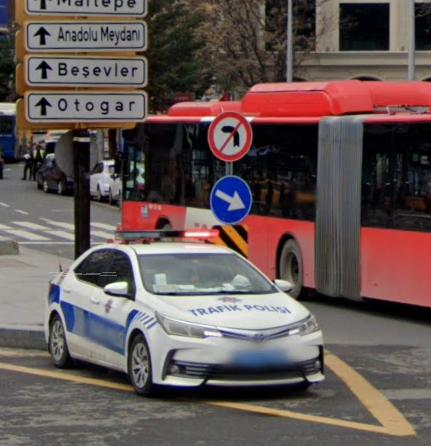leftturnsareforbidden: (210, 112, 252, 162)
